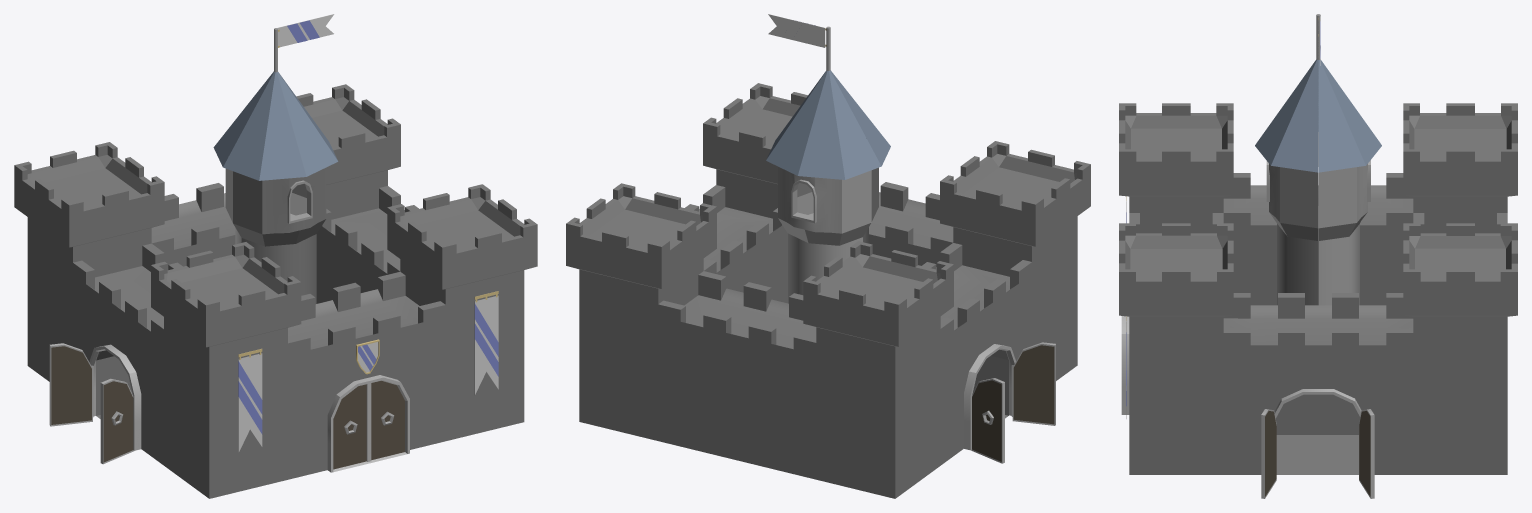
File: castle_blue_07.fbx
3 views of the same model, side by side, from view 1: azimuth 30°, elevation 25°; view 2: azimuth 150°, elevation 25°; view 3: azimuth 270°, elevation 25° (orthographic). The views are drawn at different scales.
Visible parts, largest first — view 1: pasted__pCube1, pCube22, pCube1, pCube56, pCube55, pCube47, pCube48, pTorus5, pCube50, pCube28; view 2: pasted__pCube1, pCube22, pCube55, pCube56, pTorus5, pCube50; view 3: pasted__pCube1, pCube22, pCube57, pCube58, pCube1, polySurface1.
Boxes of the visible parts, box(x1,y1,x2,y2) form: pasted__pCube1: box(14, 84, 537, 498); pCube22: box(213, 28, 338, 303); pCube1: box(327, 375, 409, 472); pCube56: box(49, 343, 92, 426); pCube55: box(100, 378, 133, 464); pCube47: box(238, 348, 262, 452); pCube48: box(474, 291, 498, 394); pTorus5: box(89, 344, 141, 450); pCube50: box(277, 14, 334, 47); pCube28: box(356, 339, 379, 374); pasted__pCube1: box(566, 83, 1090, 498); pCube22: box(766, 26, 890, 303); pCube55: box(1012, 342, 1055, 425); pCube56: box(971, 378, 1004, 463); pTorus5: box(964, 344, 1015, 450); pCube50: box(768, 14, 825, 47); pasted__pCube1: box(1119, 103, 1517, 474); pCube22: box(1255, 14, 1381, 305); pCube57: box(1359, 409, 1374, 498); pCube58: box(1261, 409, 1276, 498); pCube1: box(1121, 316, 1129, 414); polySurface1: box(1274, 389, 1361, 418).
Bounding box in the file's own units: 5.1 × 4.45 × 4.21.
